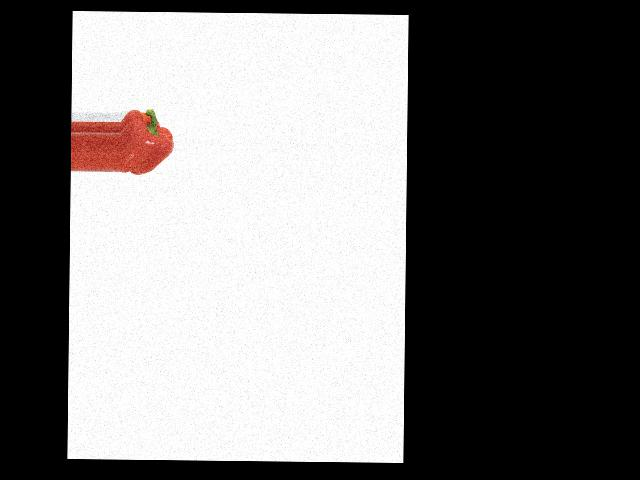bell_pepper: (119, 99, 174, 182)
